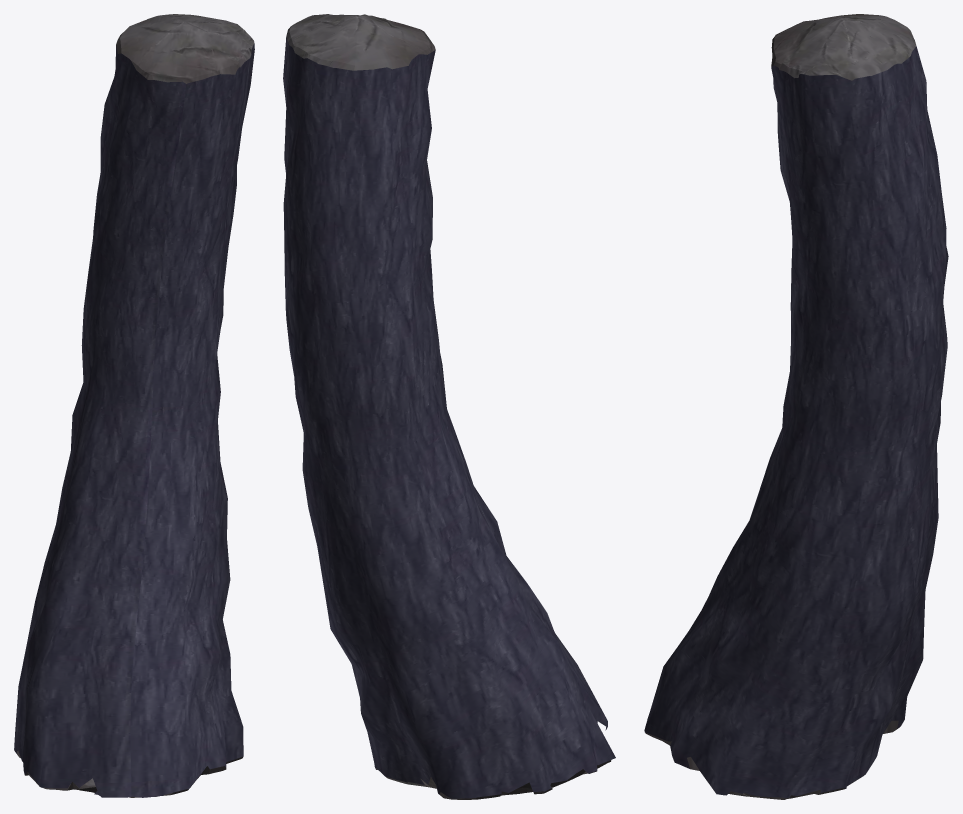
3 renders of one model, left to right at view 1: azimuth 30°, elevation 25°; view 2: azimuth 150°, elevation 25°; view 3: azimuth 270°, elevation 25°, orthographic. The views are drawn at different scales.
Parts seen in each view (by area): view 1: SM_Willow_02_half_bottom_LOD0; view 2: SM_Willow_02_half_bottom_LOD0; view 3: SM_Willow_02_half_bottom_LOD0.
Part boxes in pixels (x1,y1,x2,y2): SM_Willow_02_half_bottom_LOD0: [14, 14, 254, 797]; SM_Willow_02_half_bottom_LOD0: [283, 14, 615, 799]; SM_Willow_02_half_bottom_LOD0: [644, 14, 948, 799].
Bounding box in the file's own units: 2 × 5.38 × 1.87.
Materials: 1 (1 with a texture image).
